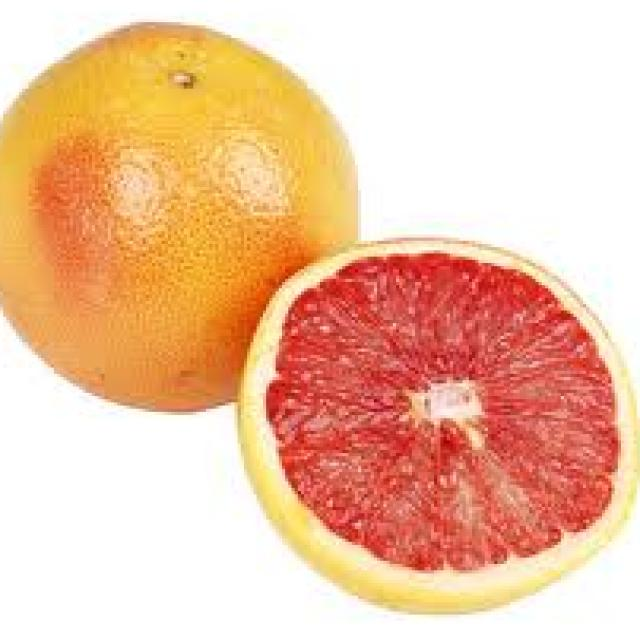greapefurit: (0, 16, 640, 608)
